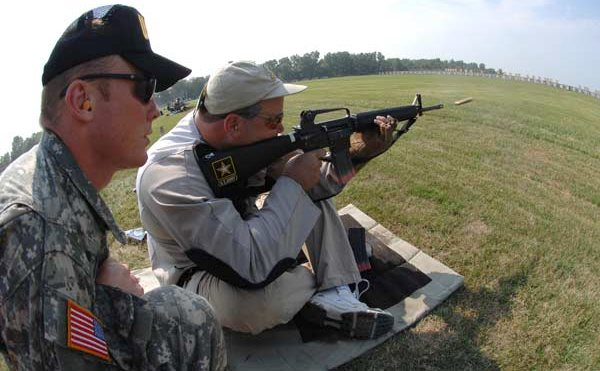Rifle: (192, 92, 448, 199)
